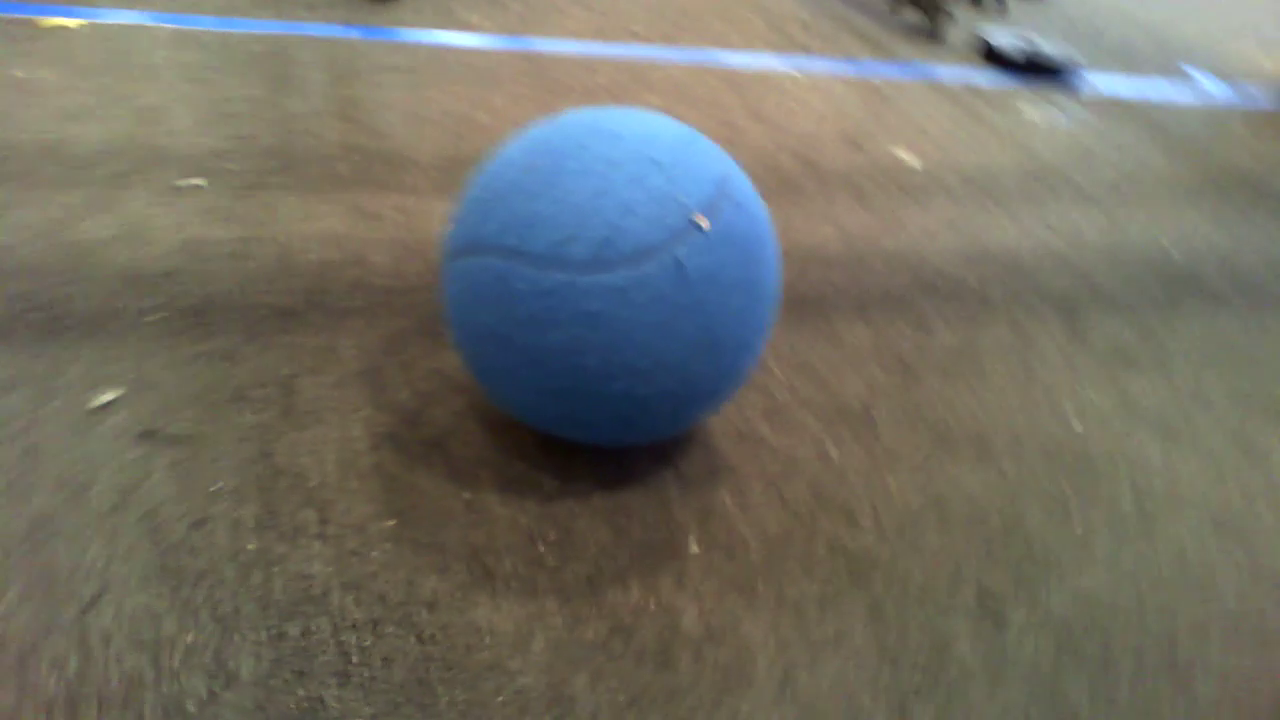blue_cargo: (445, 92, 788, 482)
